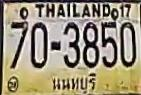0: (30, 22, 47, 67), (119, 22, 135, 66)
3: (63, 22, 79, 67)
5: (101, 21, 117, 67)
7: (10, 21, 27, 68)
8: (82, 22, 98, 67)
NBI: (50, 71, 97, 95)
